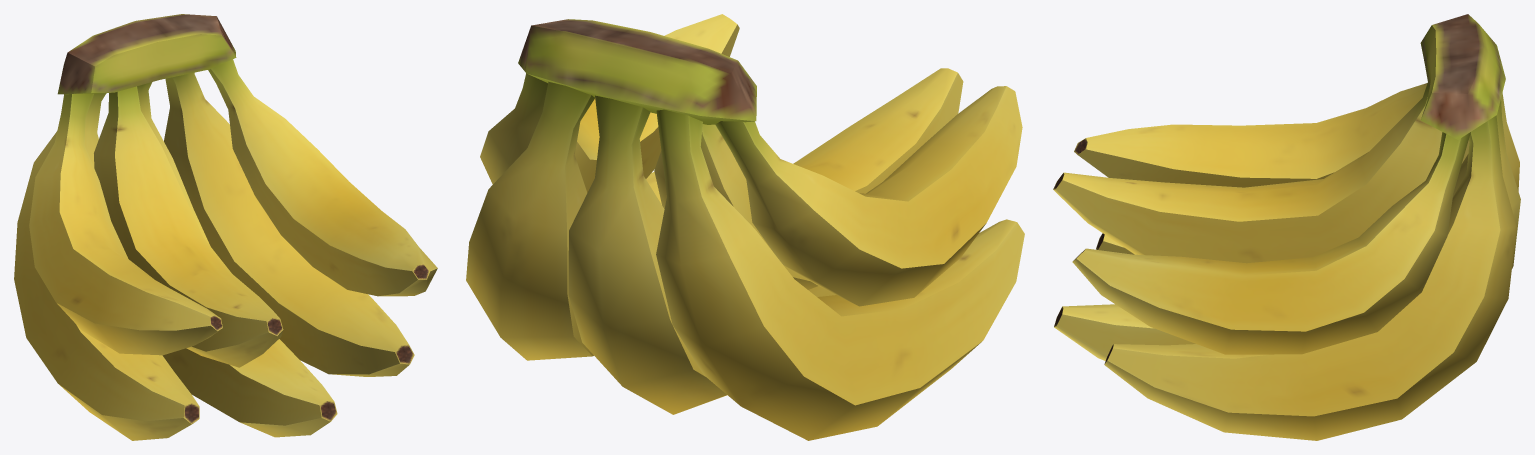
Rendered from jsf_Banana_03.fbx.
3 renders of one model, left to right at view 1: azimuth 30°, elevation 25°; view 2: azimuth 150°, elevation 25°; view 3: azimuth 270°, elevation 25°, orthographic. The views are drawn at different scales.
Parts seen in each view (by area): view 1: jsf_Banana_03; view 2: jsf_Banana_03; view 3: jsf_Banana_03.
Part boxes in pixels (left/top/right/bottom): jsf_Banana_03: left=14, top=14, right=437, bottom=440; jsf_Banana_03: left=466, top=14, right=1024, bottom=440; jsf_Banana_03: left=1053, top=14, right=1520, bottom=440.
Size of the model in its own units: 14.99 by 14.41 by 17.31.
